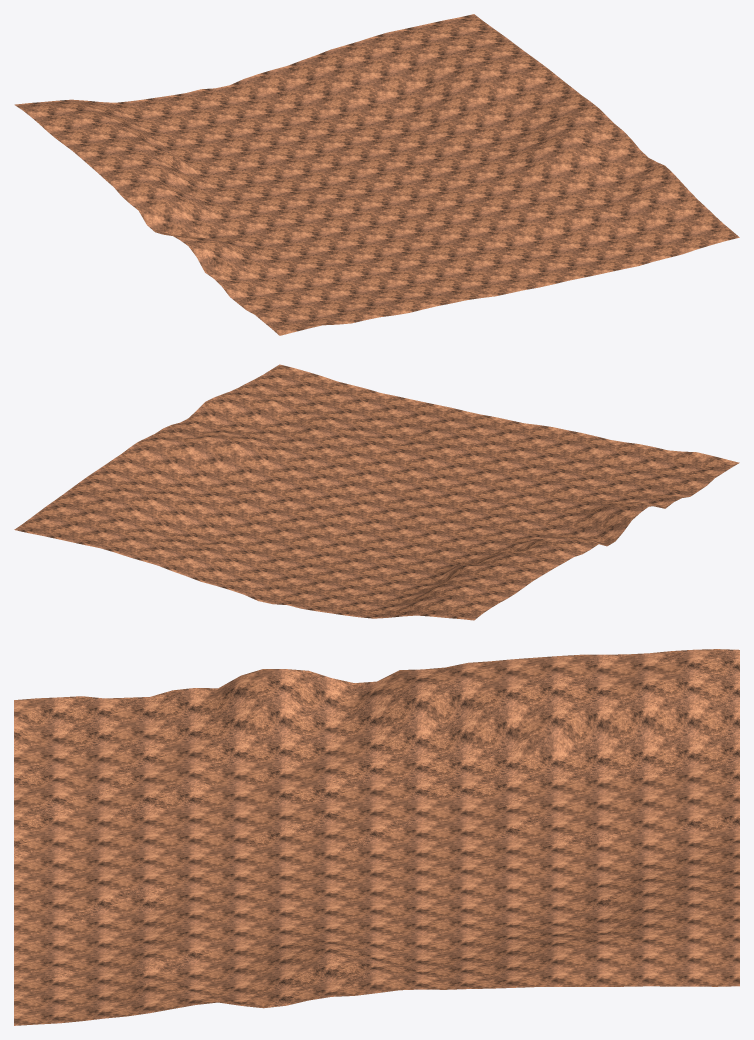
Rendered from terrain_08_14.dae.
3 renders of one model, top to bottom at view 1: azimuth 30°, elevation 25°; view 2: azimuth 150°, elevation 25°; view 3: azimuth 270°, elevation 25°, orthographic. The views are drawn at different scales.
Parts seen in each view (by area): view 1: terrain_08_14-node; view 2: terrain_08_14-node; view 3: terrain_08_14-node.
Boxes of the visible parts, <box> form: terrain_08_14-node: <box>14,14,739,335</box>; terrain_08_14-node: <box>14,364,739,620</box>; terrain_08_14-node: <box>14,649,739,1025</box>.
Bounding box in the file's own units: 128 × 128 × 14.66.
Materials: 1 (1 with a texture image).
